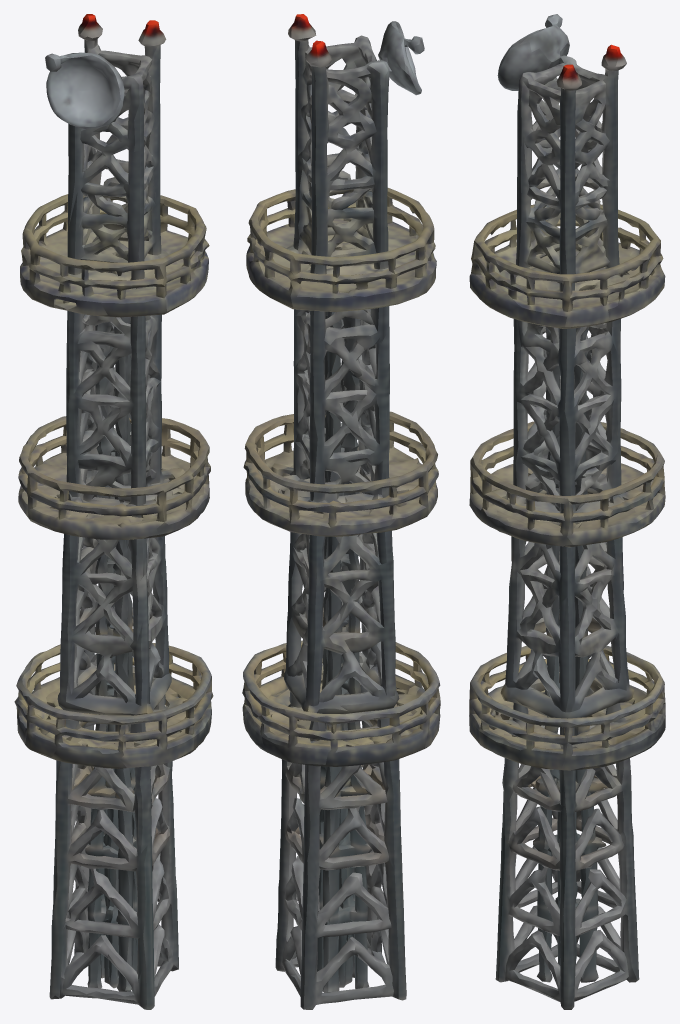
3 renders of one model, left to right at view 1: azimuth 30°, elevation 25°; view 2: azimuth 150°, elevation 25°; view 3: azimuth 270°, elevation 25°, orthographic. The views are drawn at different scales.
Parts seen in each view (by area): view 1: world; view 2: world; view 3: world.
Boxes of the visible parts, bbox=[...] form: world: bbox=[14, 14, 213, 1009]; world: bbox=[242, 14, 440, 1009]; world: bbox=[469, 14, 665, 1009].
Bounding box in the file's own units: 0.1921 × 1 × 0.1915.
Materials: 1 (1 with a texture image).
